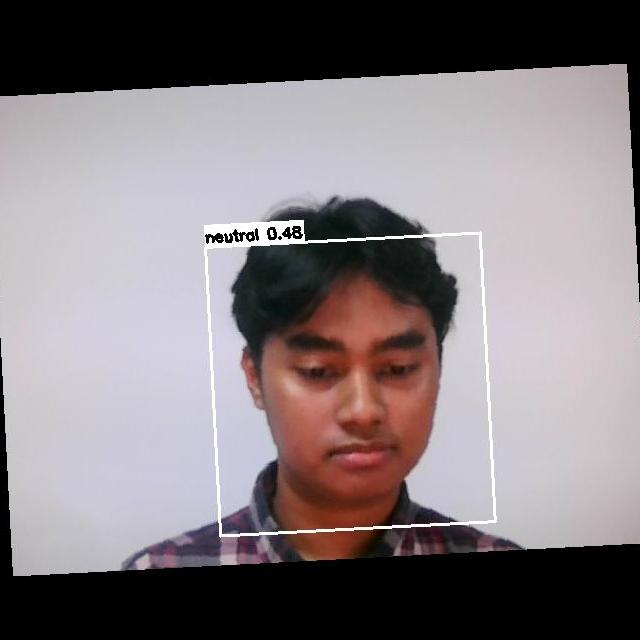Natural: (272, 318, 451, 469)
